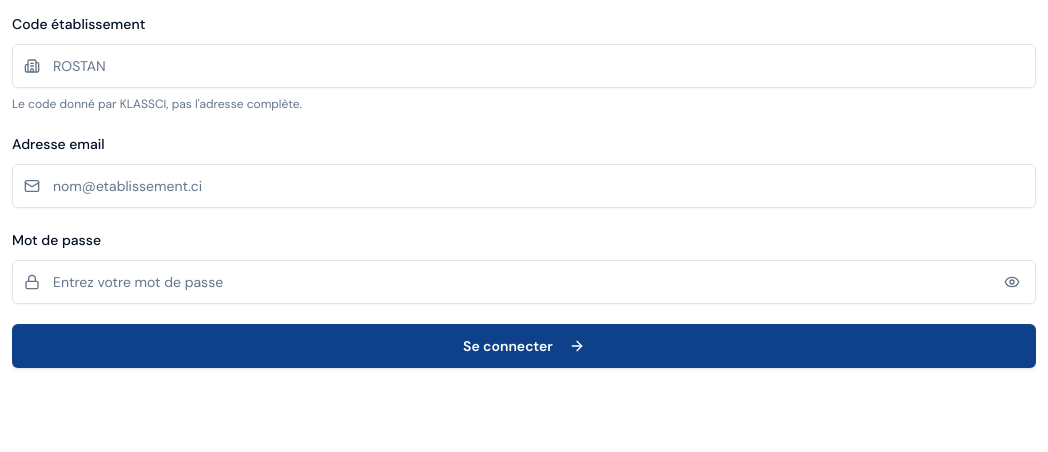
Test: LoginForm school code › blocks an unknown school code
The image size is (1048, 452).
Type "???" into the field with placeholder "ROSTAN".
click(524, 66); type("???")  # box [12,44,1036,88]
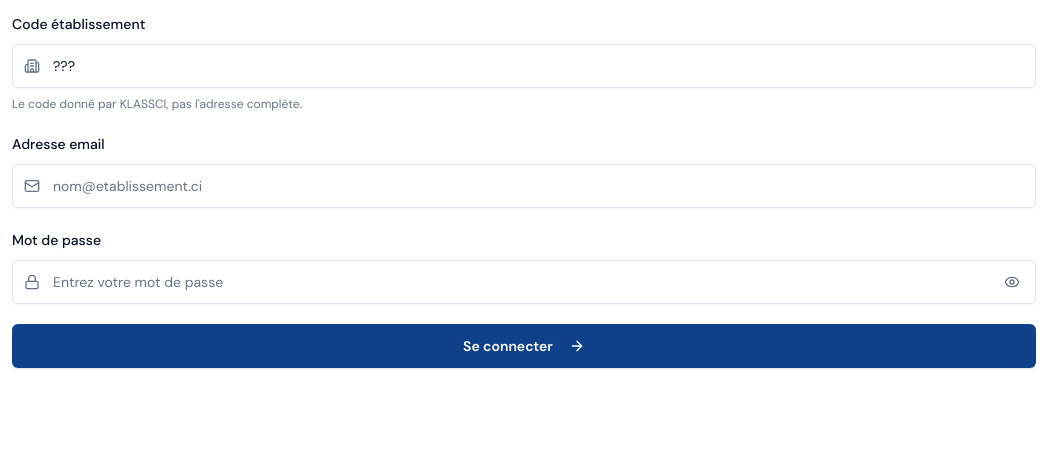
Type "admin@rostan-bouake.ci" into the field with placeholder "nom@etablissement.ci".
click(524, 186); type("admin@rostan-bouake.ci")  # box [12,164,1036,208]
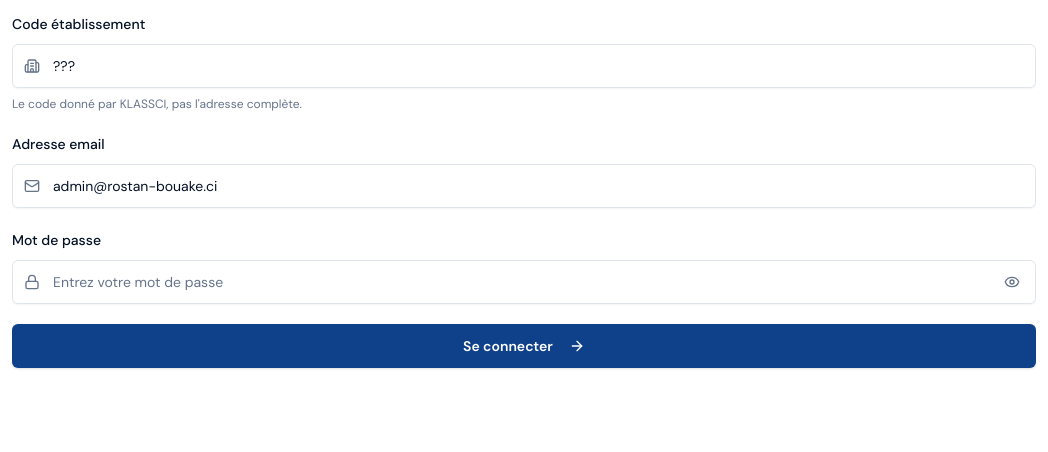
Type "secret" into the password field with placeholder "Entrez votre mot de passe".
click(524, 282); type("secret")  # box [12,260,1036,304]
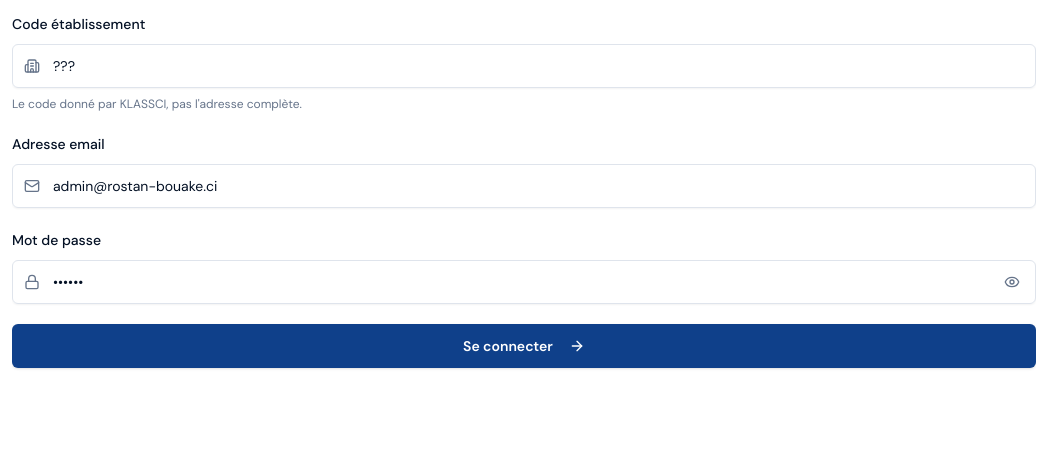
Click the button "Se connecter".
click(524, 346)  # box [12,324,1036,368]
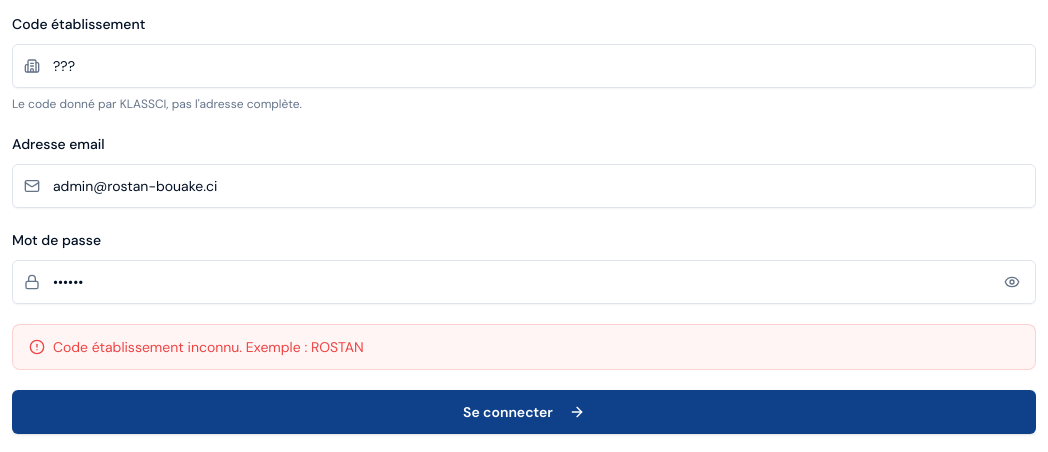
Expected: the text "Code établissement inconnu. Exemple : ROSTAN" is shown, [53,337,364,357]
